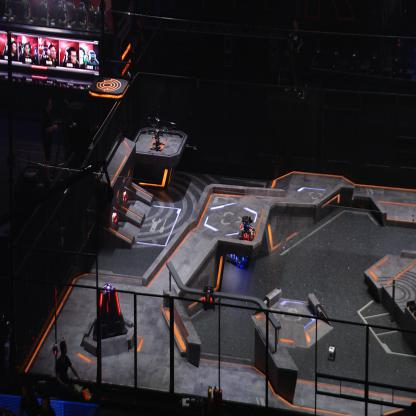car: (226, 235, 248, 267), (239, 214, 257, 241), (102, 205, 120, 232), (112, 186, 130, 206), (366, 341, 368, 344)
